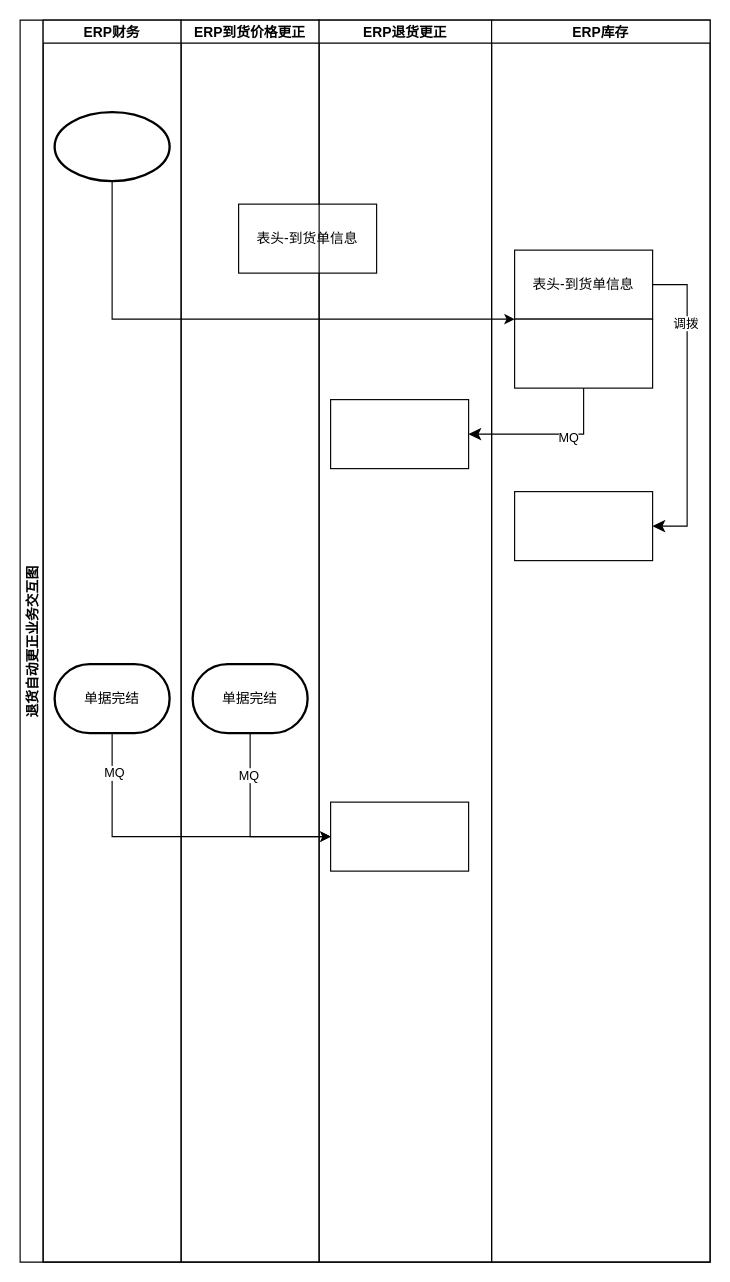
This 730x1282 diagram has some shape labels left out. Each missing label, with the centre of its shape:
处理信息记录: the point at 399,433
扣款记录: the point at 399,836
明细-业务单信息: the point at 583,353
溯源-原始到货单信息: the point at 583,525
财务价格反填: the point at 111,146
